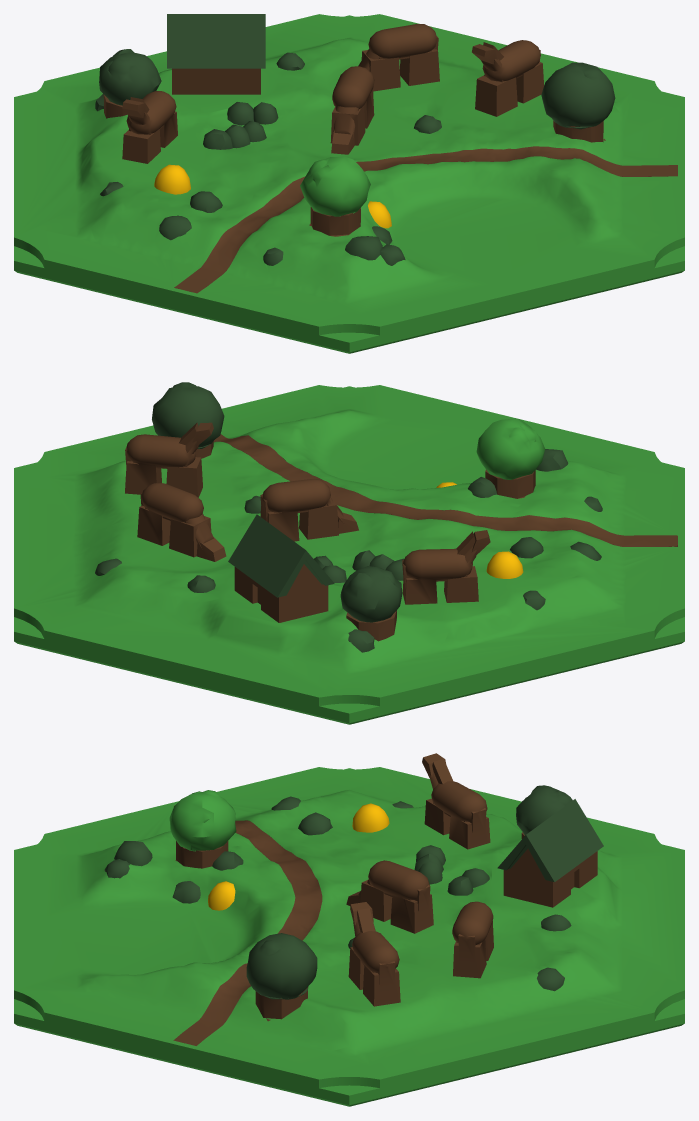
Rendered from weide_3.glb.
3 renders of one model, top to bottom at view 1: azimuth 30°, elevation 25°; view 2: azimuth 150°, elevation 25°; view 3: azimuth 270°, elevation 25°, orthographic.
Visible parts, largest first — view 1: weide_3; view 2: weide_3; view 3: weide_3.
Boxes of the visible parts, <box> form: weide_3: <box>14,14,684,353</box>; weide_3: <box>14,382,684,724</box>; weide_3: <box>14,753,684,1106</box>.
Size of the model in its own units: 65.24 by 10.42 by 56.5.
